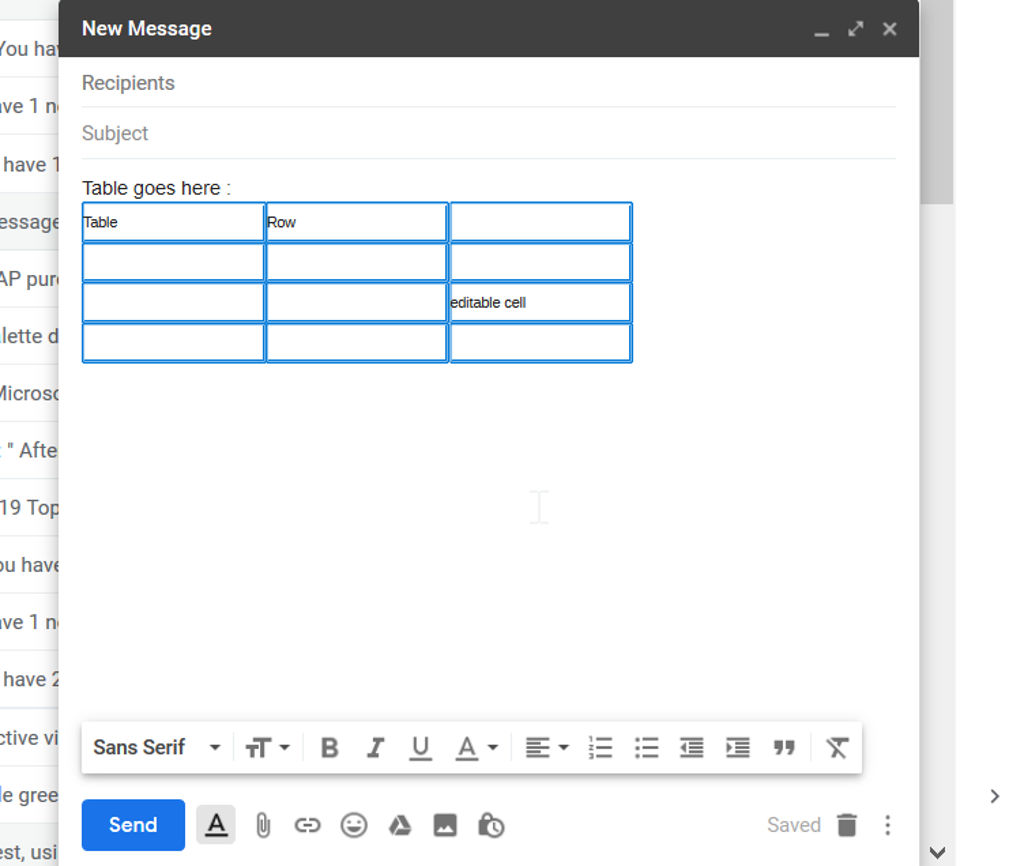button: (81, 797, 188, 854), (964, 769, 1022, 820), (240, 724, 299, 770), (442, 726, 506, 767), (513, 727, 576, 768), (756, 725, 809, 769), (397, 722, 442, 770), (193, 802, 239, 847), (306, 725, 350, 771), (354, 724, 397, 770), (625, 727, 671, 769), (578, 726, 623, 768), (670, 726, 715, 768), (716, 729, 755, 768), (201, 728, 232, 769), (829, 808, 862, 845), (335, 806, 368, 842), (247, 805, 277, 843), (292, 806, 324, 840), (874, 805, 901, 844), (382, 809, 414, 840), (869, 16, 903, 45), (431, 809, 461, 841), (477, 809, 506, 842), (836, 15, 869, 43), (918, 841, 954, 866), (809, 15, 835, 43)
common: (83, 725, 200, 769), (78, 171, 238, 200), (1, 364, 61, 424), (1, 649, 62, 708), (1, 478, 62, 536), (1, 708, 59, 768), (1, 536, 62, 593), (1, 305, 59, 364), (1, 192, 60, 249), (1, 76, 59, 133), (1, 249, 59, 305), (1, 595, 60, 649), (1, 425, 61, 478), (1, 769, 59, 823), (1, 136, 58, 190), (1, 22, 59, 74), (1, 824, 59, 866), (812, 727, 859, 771), (761, 812, 827, 842)
container: (58, 1, 919, 866), (61, 161, 915, 720), (62, 719, 916, 865), (59, 1, 920, 56), (79, 722, 869, 777), (511, 724, 810, 773), (81, 722, 302, 774), (303, 721, 509, 775), (83, 720, 237, 772)
header: (74, 11, 222, 48)
table: (81, 202, 636, 368)
table-cell: (447, 322, 633, 365), (81, 281, 265, 324), (447, 281, 635, 323), (264, 281, 449, 323), (449, 200, 632, 242), (446, 241, 633, 282), (264, 322, 449, 363), (265, 201, 449, 242), (81, 323, 265, 364), (263, 242, 451, 282), (81, 242, 264, 282), (81, 202, 266, 241)
table-row: (82, 322, 637, 366), (81, 282, 636, 325), (81, 241, 636, 283), (80, 202, 636, 243)
text-input: (62, 108, 919, 160), (63, 57, 918, 107)
